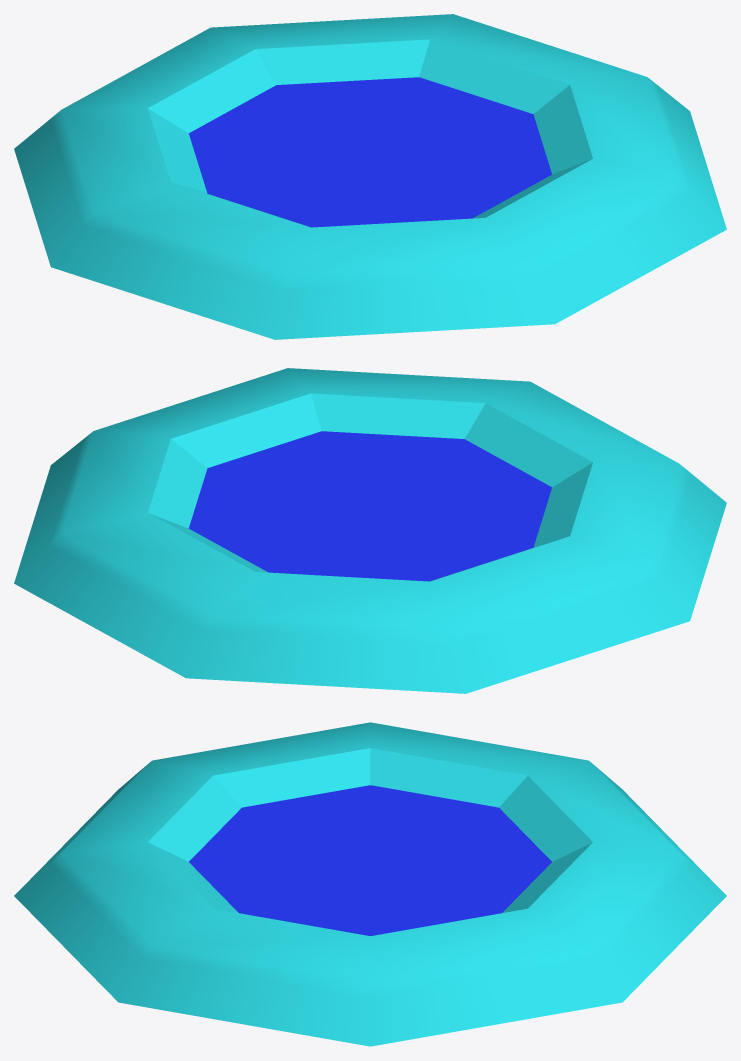
File: flat_portal.fbx
The picture shows the model from 3 angles, top to bottom: view 1: azimuth 30°, elevation 25°; view 2: azimuth 150°, elevation 25°; view 3: azimuth 270°, elevation 25°; orthographic projection. The views are drawn at different scales.
Visible parts, largest first — view 1: Cone001; view 2: Cone001; view 3: Cone001.
Boxes of the visible parts, x1,y1,x2,y2 form: Cone001: (14,14,726,339); Cone001: (14,368,726,693); Cone001: (14,722,726,1046).
Bounding box in the file's own units: 24 × 2 × 24.
